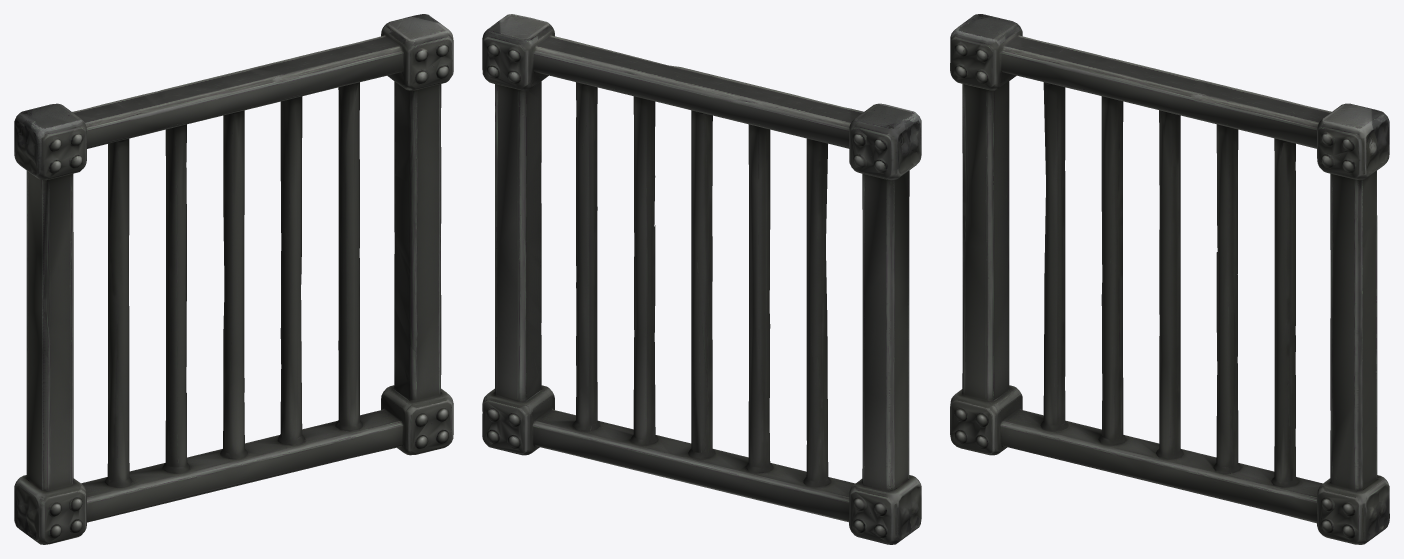
The model's file is Meshy_AI_Prison_Bars_0520084741_texture.fbx.
The picture shows the model from 3 angles, left to right: view 1: azimuth 30°, elevation 25°; view 2: azimuth 150°, elevation 25°; view 3: azimuth 330°, elevation 25°; orthographic projection.
Parts seen in each view (by area): view 1: Mesh_0; view 2: Mesh_0; view 3: Mesh_0.
Part boxes in pixels (bbox=[...]): Mesh_0: bbox=[14, 14, 453, 544]; Mesh_0: bbox=[482, 14, 921, 544]; Mesh_0: bbox=[950, 14, 1389, 544].
Bounding box in the file's own units: 191 × 180 × 27.19.
Materials: 1 (1 with a texture image).
